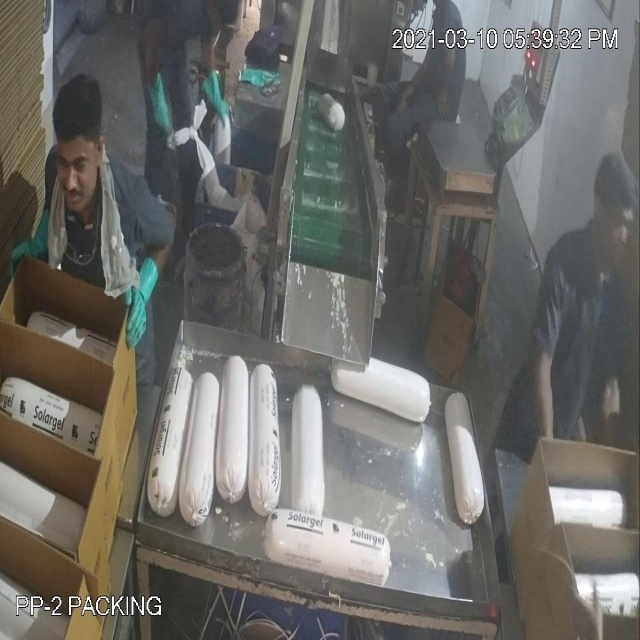Guantes: (120, 252, 163, 353)
Sin_guantes: (526, 324, 561, 460)
